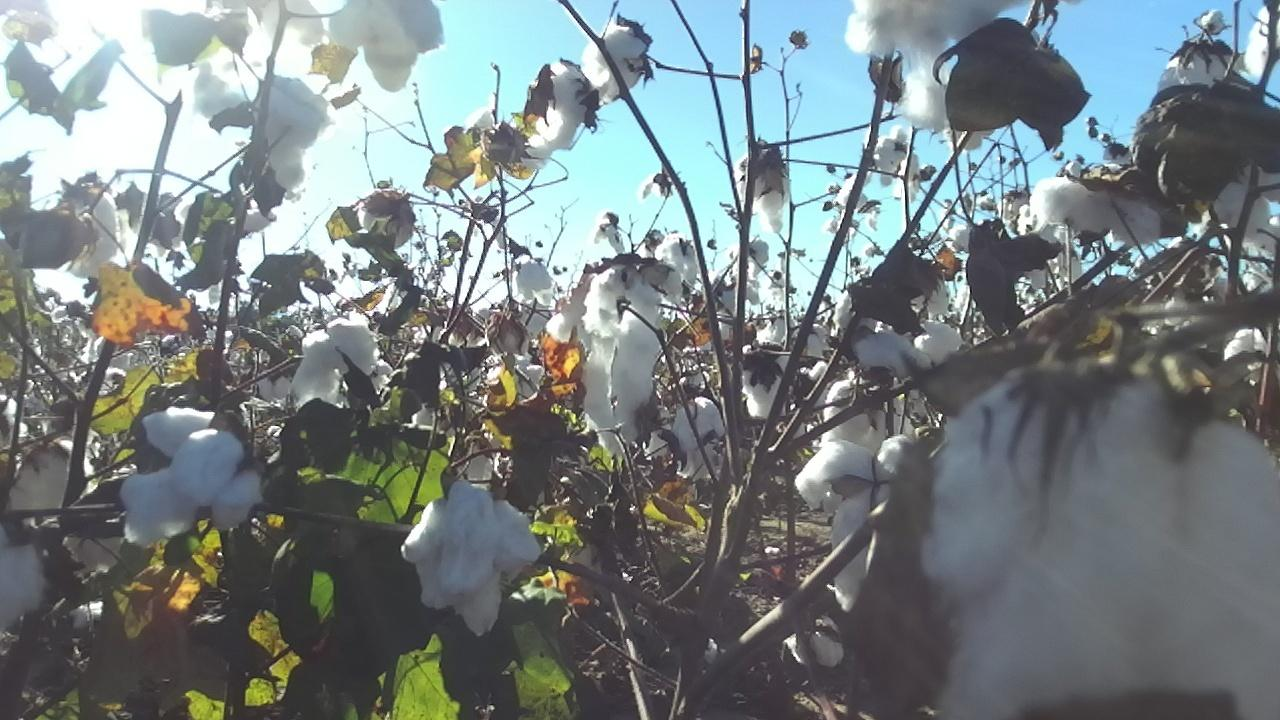cotton_ready: (922, 365, 1280, 720), (797, 437, 929, 614), (403, 477, 540, 639), (841, 0, 1010, 129), (579, 257, 682, 462), (120, 410, 265, 545), (1181, 157, 1280, 246), (1030, 177, 1164, 242), (296, 307, 377, 403), (264, 75, 329, 191), (12, 439, 99, 517), (825, 378, 914, 445), (53, 185, 119, 275), (0, 527, 52, 636), (327, 0, 415, 64), (581, 25, 649, 105), (533, 62, 592, 150), (670, 397, 730, 481), (64, 512, 132, 578), (737, 152, 792, 231), (844, 324, 922, 375), (736, 344, 789, 418), (1222, 319, 1279, 387), (1157, 47, 1237, 94), (782, 614, 849, 670), (480, 120, 552, 171), (192, 59, 248, 118), (259, 0, 324, 48), (1242, 2, 1280, 80), (359, 199, 415, 249), (914, 317, 962, 363)
